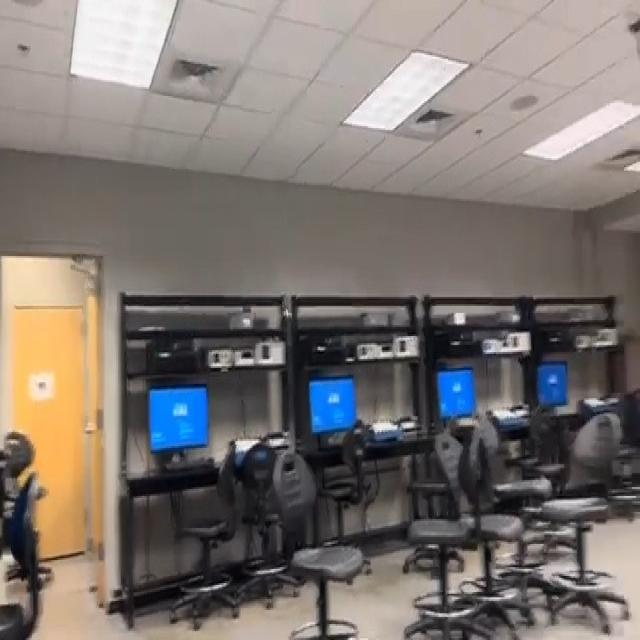drone: (272, 278, 302, 331)
